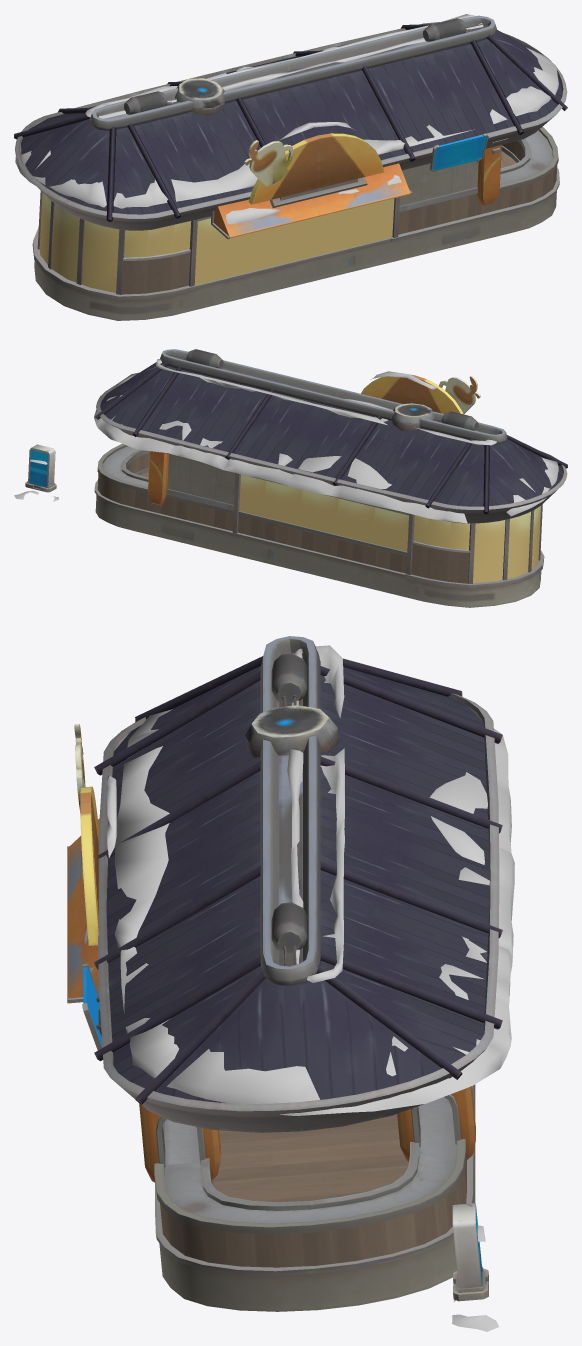
File: pref_sm_city_coffeehouse01_snow_lv3.fbx
The picture shows the model from 3 angles, top to bottom: view 1: azimuth 30°, elevation 25°; view 2: azimuth 150°, elevation 25°; view 3: azimuth 270°, elevation 25°; orthographic projection. The views are drawn at different scales.
Parts seen in each view (by area): view 1: sm_city_coffeehouse01_lv3, sm_city_coffeehouse01b_snow_lv3; view 2: sm_city_coffeehouse01_lv3, sm_city_coffeehouse01b_snow_lv3; view 3: sm_city_coffeehouse01_lv3, sm_city_coffeehouse01b_snow_lv3.
Part boxes in pixels (<box>): sm_city_coffeehouse01_lv3: <box>14,15,567,320</box>; sm_city_coffeehouse01b_snow_lv3: <box>15,14,558,224</box>; sm_city_coffeehouse01_lv3: <box>25,349,567,607</box>; sm_city_coffeehouse01b_snow_lv3: <box>14,359,558,523</box>; sm_city_coffeehouse01_lv3: <box>67,636,502,1311</box>; sm_city_coffeehouse01b_snow_lv3: <box>81,645,514,1331</box>.
Bounding box in the file's own units: 19.02 × 6.04 × 7.52.
